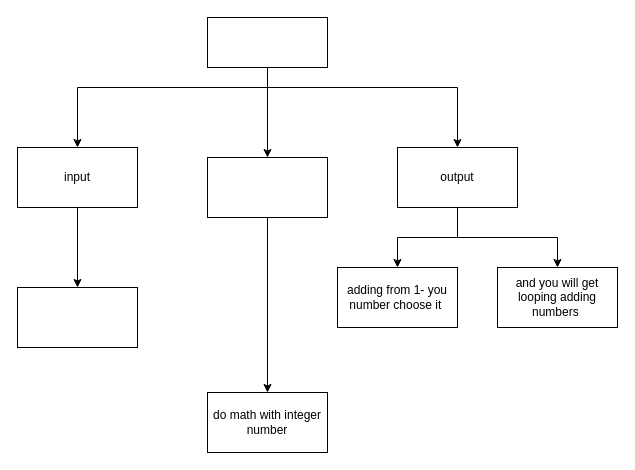
Image size: 635x470. Some labels were removed from this diagram. The centre of each missing label's shape, as x and y in pixels:
"Get integer number" belongs at point (77, 317).
"loop" belongs at point (267, 42).
"process" belongs at point (267, 187).
